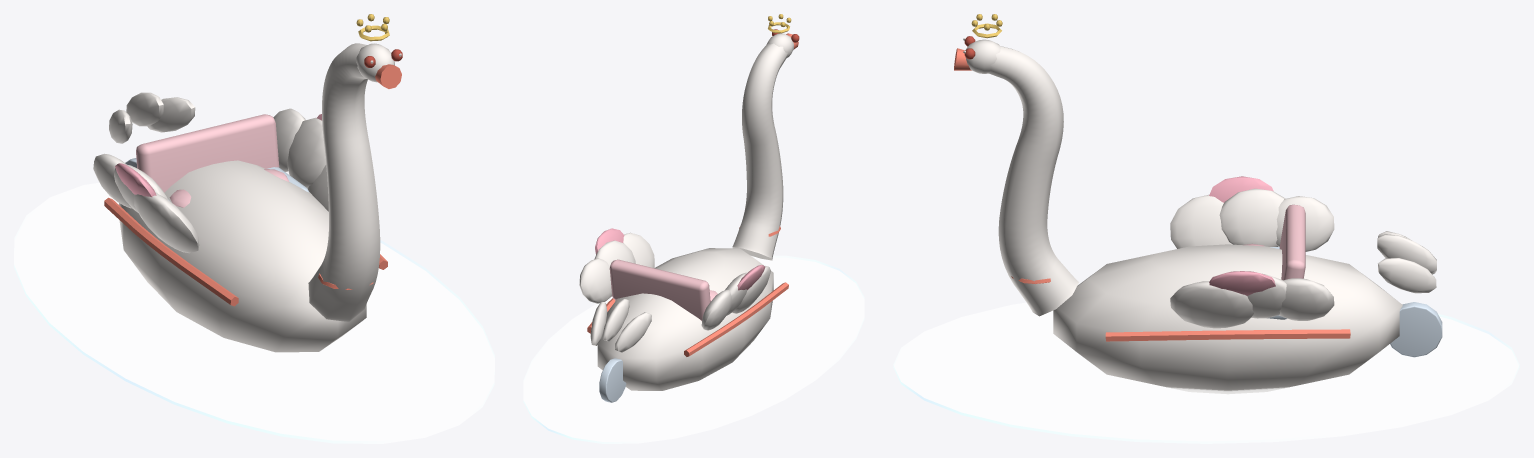
The model's file is swan_boat.glb.
3 renders of one model, left to right at view 1: azimuth 30°, elevation 25°; view 2: azimuth 150°, elevation 25°; view 3: azimuth 270°, elevation 25°, orthographic. The views are drawn at different scales.
Visible parts, largest first — view 1: swan_boat; view 2: swan_boat; view 3: swan_boat.
Boxes of the visible parts, <box> form: swan_boat: <box>14,14,494,443</box>; swan_boat: <box>523,14,864,443</box>; swan_boat: <box>893,14,1519,443</box>.
Size of the model in its own units: 2.53 by 2.82 by 4.37.
